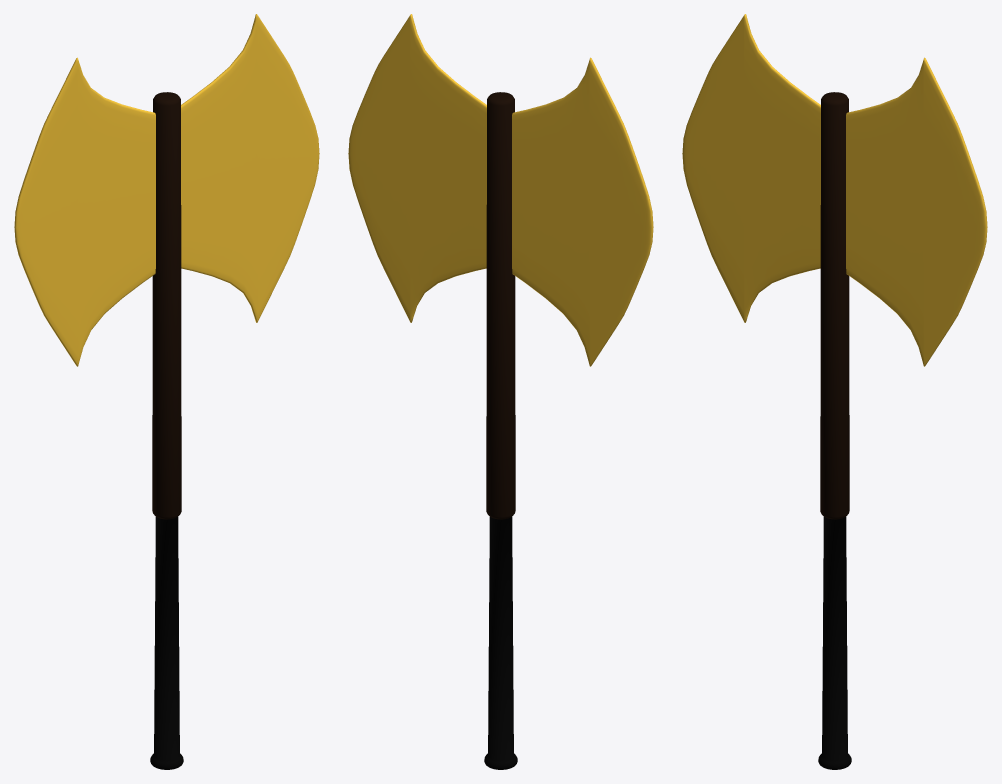
Rendered from TwoHand_Axe_Gold.obj.
3 renders of one model, left to right at view 1: azimuth 30°, elevation 25°; view 2: azimuth 150°, elevation 25°; view 3: azimuth 330°, elevation 25°, orthographic.
Visible parts, largest first — view 1: TwoHand_Axe_Gold_Cylinder.005; view 2: TwoHand_Axe_Gold_Cylinder.005; view 3: TwoHand_Axe_Gold_Cylinder.005.
Boxes of the visible parts, x1=… form: TwoHand_Axe_Gold_Cylinder.005: x1=14, y1=14, x2=319, y2=769; TwoHand_Axe_Gold_Cylinder.005: x1=348, y1=14, x2=653, y2=769; TwoHand_Axe_Gold_Cylinder.005: x1=682, y1=14, x2=987, y2=769.
Bounding box in the file's own units: 5.46 × 12.51 × 0.5231.
